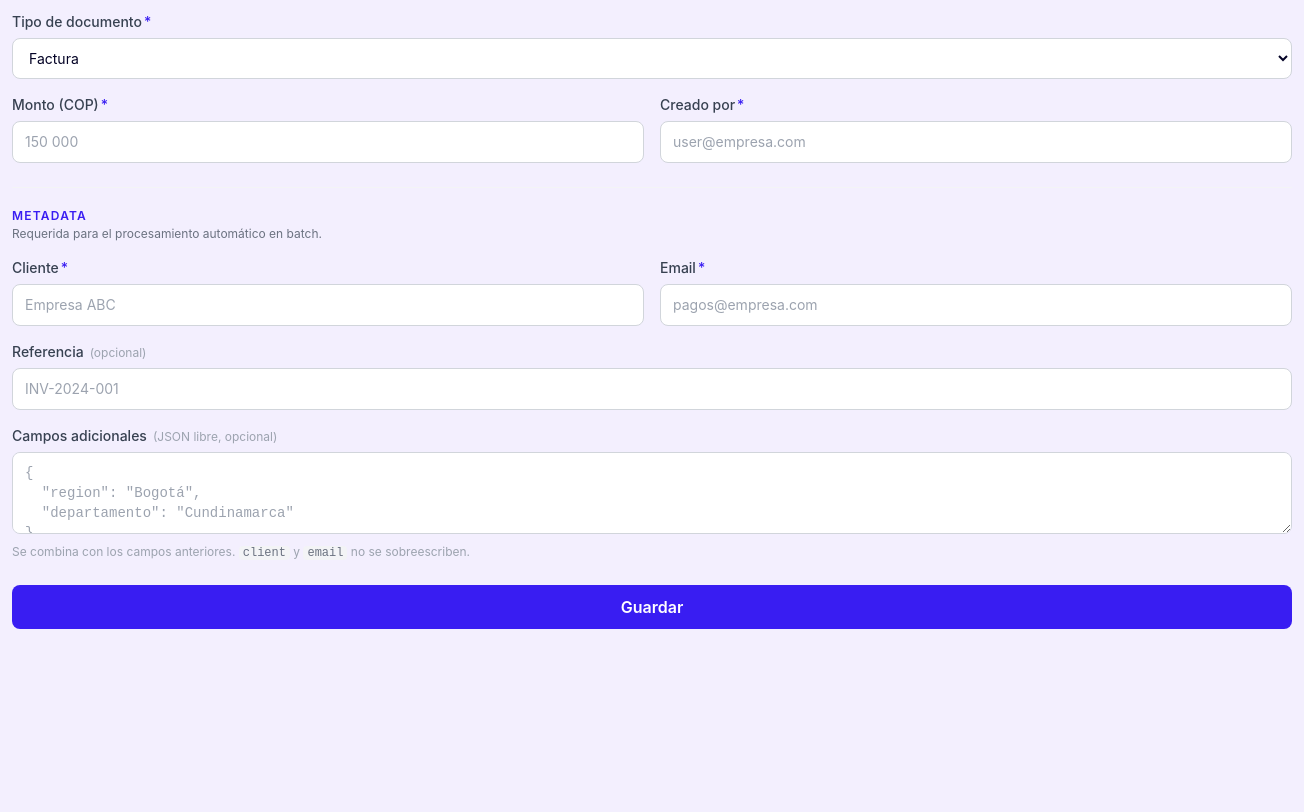
Test: DocumentForm › validation errors › shows error when amount is 0
Type "0" into the number field with placeholder "150 000".
click(328, 142); type("0")  # box [12,121,644,163]
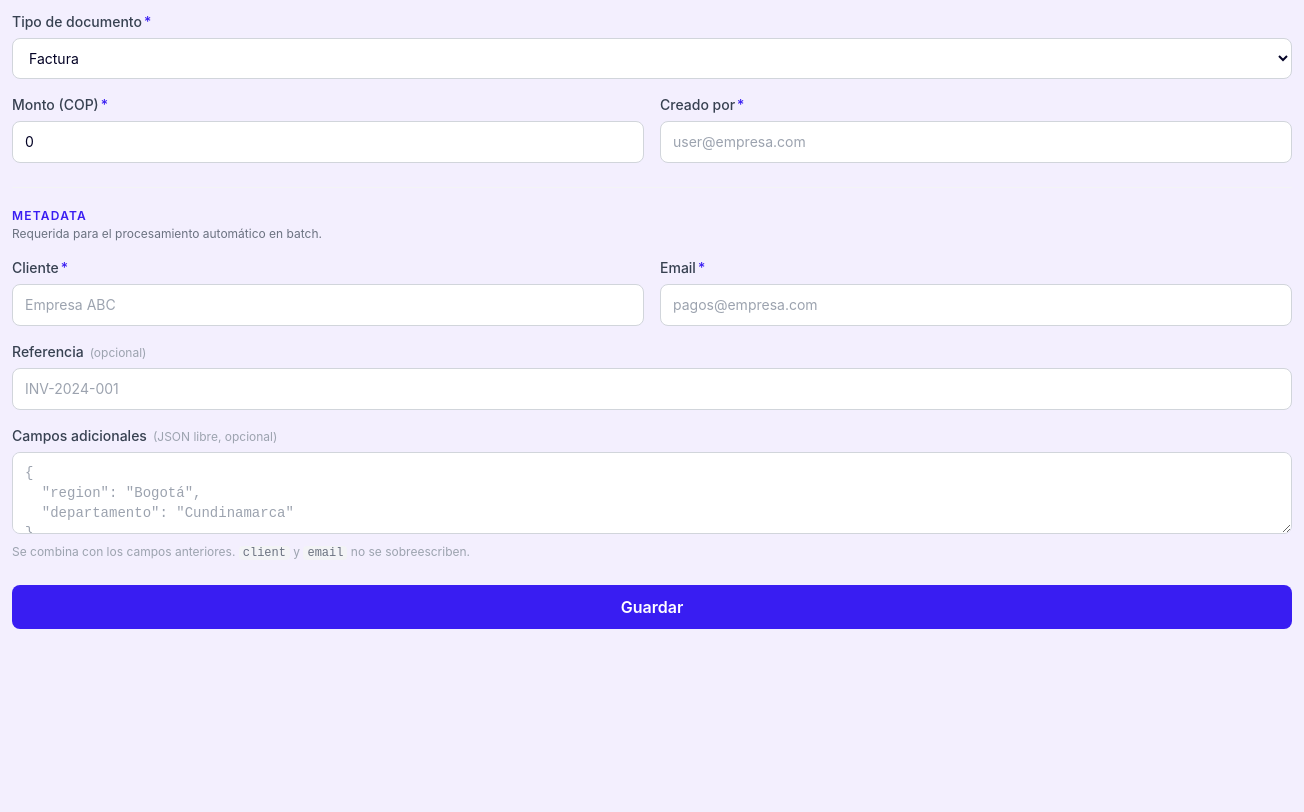
Click the button "Guardar".
click(652, 607)  # box [12,585,1292,629]
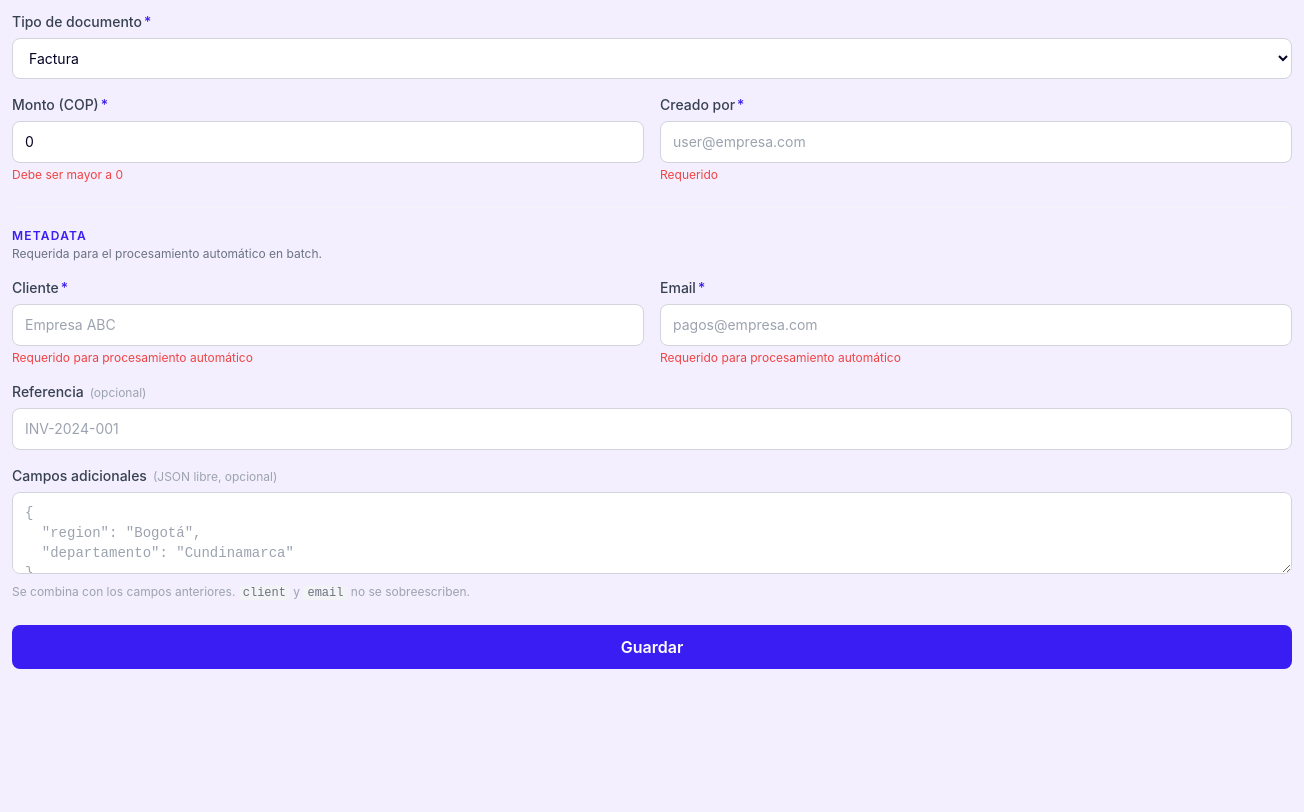
Now the text "Debe ser mayor a 0" is shown, box [12,167,123,182]
